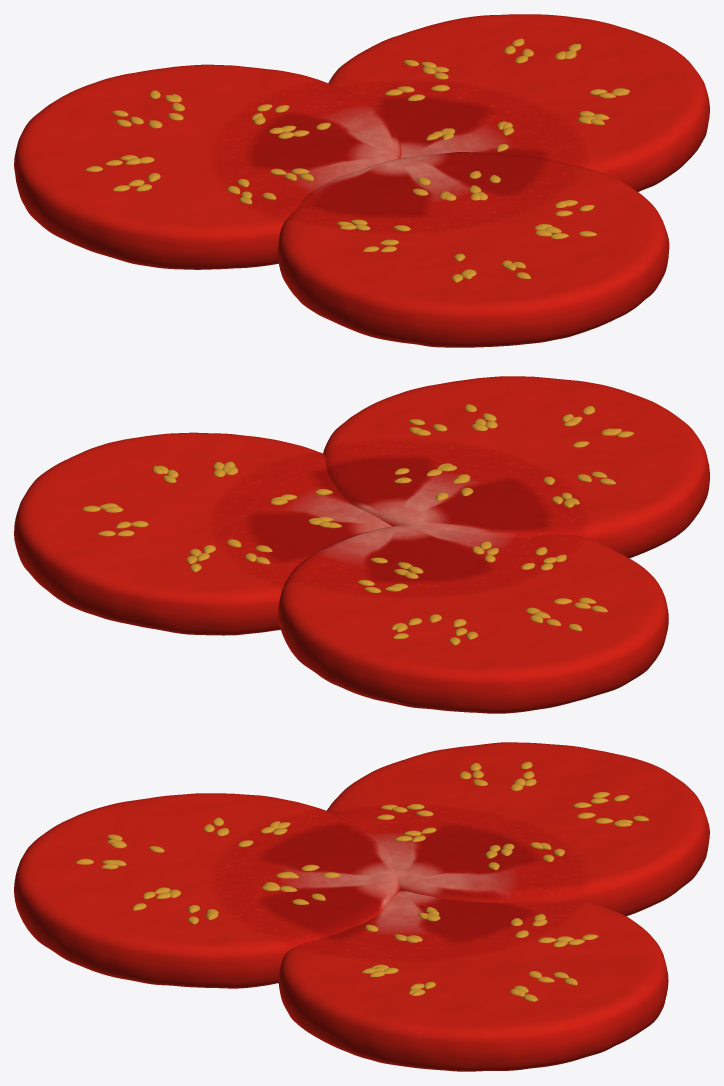
The model's file is tomato_slices.glb.
3 renders of one model, top to bottom at view 1: azimuth 30°, elevation 25°; view 2: azimuth 150°, elevation 25°; view 3: azimuth 270°, elevation 25°, orthographic.
Visible parts, largest first — view 1: tomato_slices_web; view 2: tomato_slices_web; view 3: tomato_slices_web.
Boxes of the visible parts, x1,y1,x2,y2 form: tomato_slices_web: [14, 14, 709, 347]; tomato_slices_web: [14, 376, 709, 713]; tomato_slices_web: [14, 742, 709, 1071].
Size of the model in its own units: 0.1032 by 0.00882 by 0.1.
Materials: 1 (1 with a texture image).
